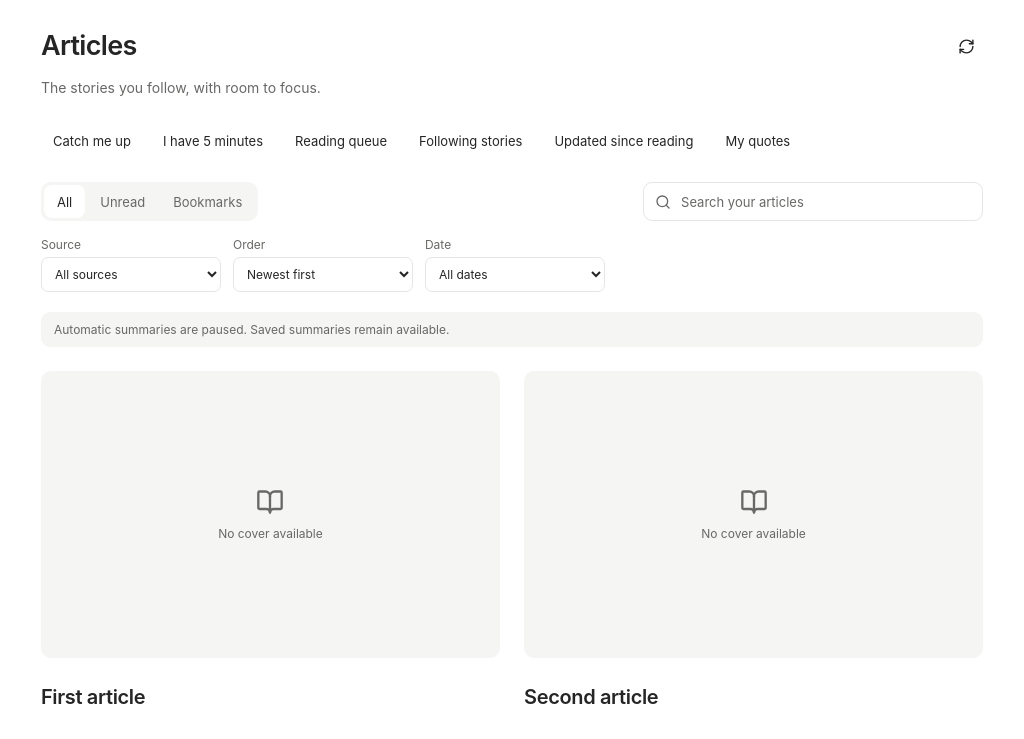
does not reopen the previous article when a late bookmark response finishes
Click the button "First article": (93, 697) [41,680,500,714]
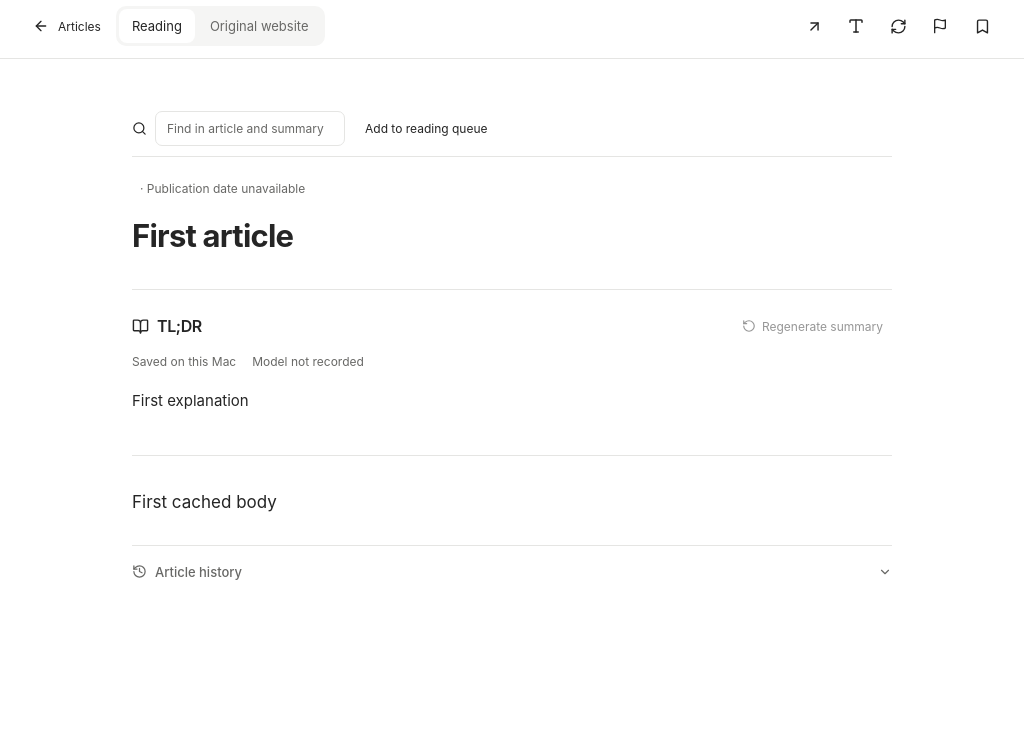
Expected: the text "First cached body" is shown, [132,492,277,512]
Click the button named "Bookmark": (982, 26) [964,8,1000,44]
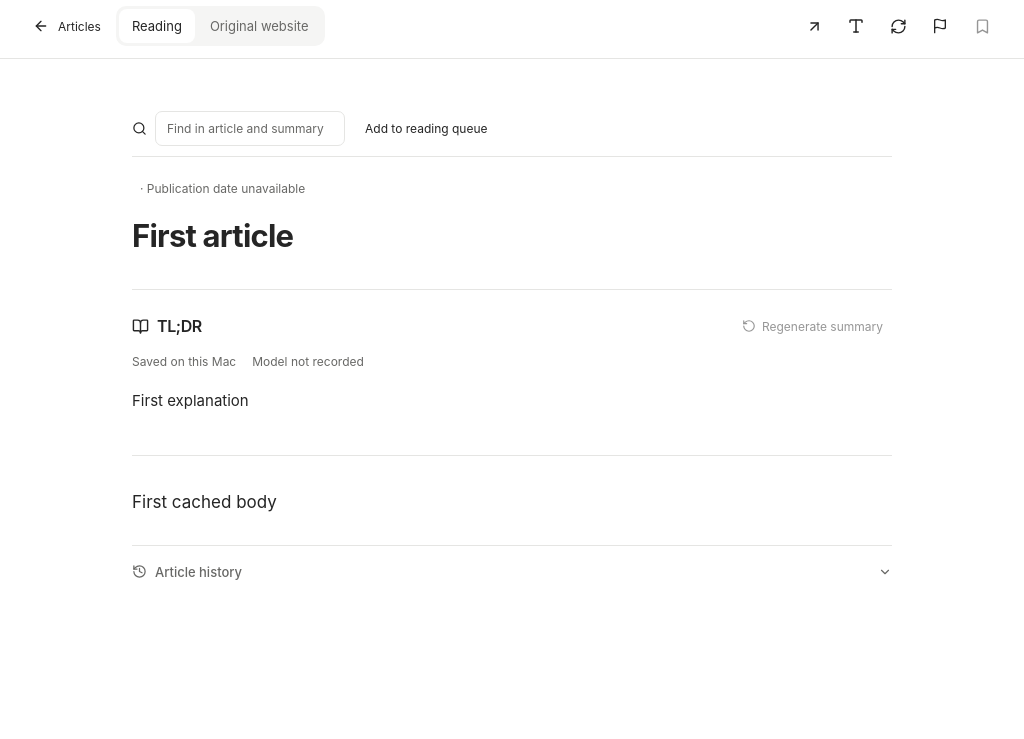
Click the button "Articles": (67, 26) [24,8,110,44]
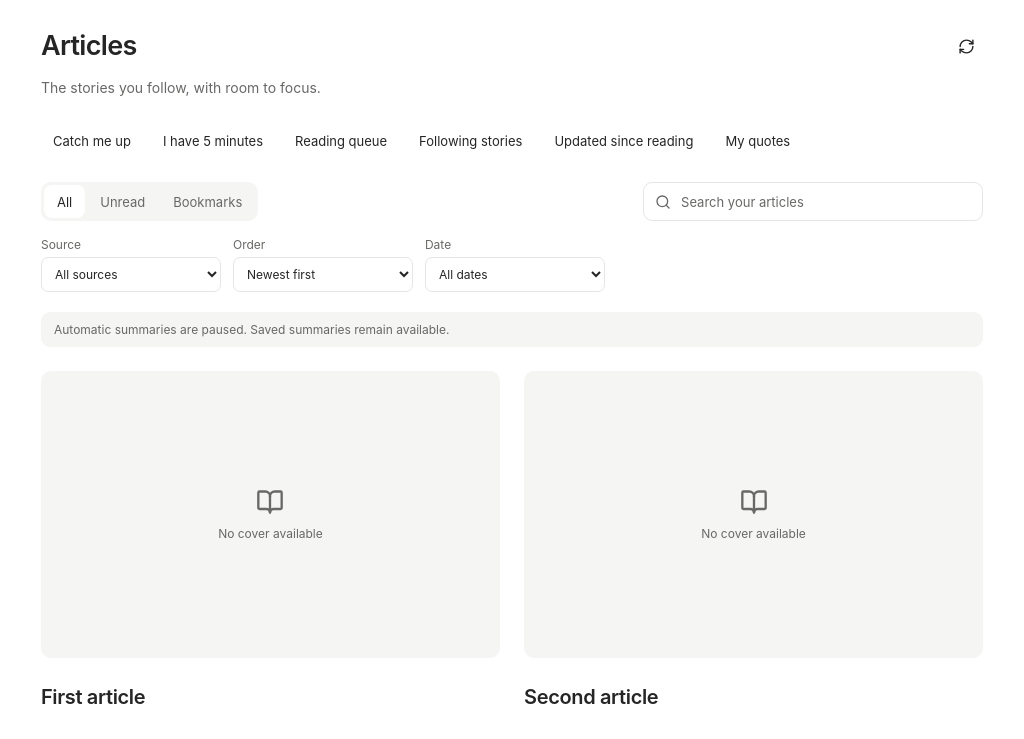
Click the button "Second article": (591, 697) [524,680,983,714]
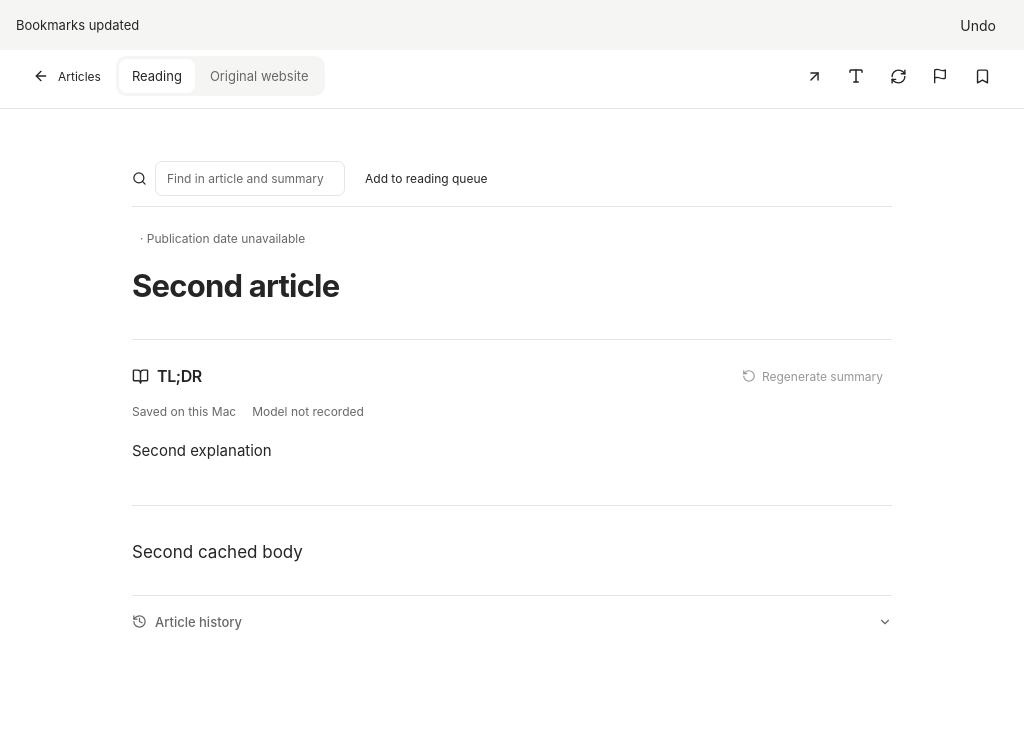
Expected: the text "First cached body" is not shown
Expected: the text "Second cached body" is shown, [132,542,303,562]
Expected: the heading "Second article" is shown, [132,267,339,304]
